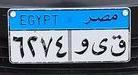2: (26, 33, 39, 59)
4: (55, 35, 68, 61)
6: (12, 34, 25, 60)
7: (40, 36, 53, 59)
qaaf: (110, 34, 126, 58)
waw: (73, 37, 89, 56)
yaa: (91, 38, 109, 57)
